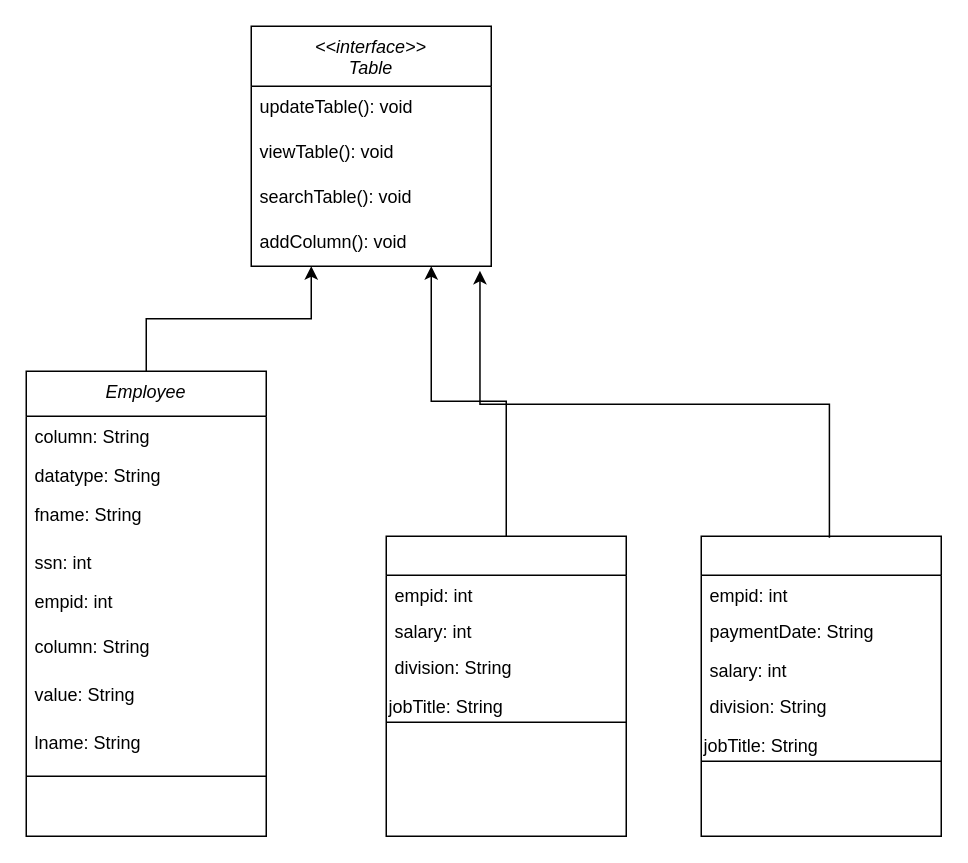
This 968x863 diagram has some shape labels left out. The shapes that lost their labels are listed below. From the top down, each one's box as (x1, y1, x2, y2) in pixels, then its label:
(385, 535, 626, 836): payment
(700, 535, 941, 836): paymentHistory
